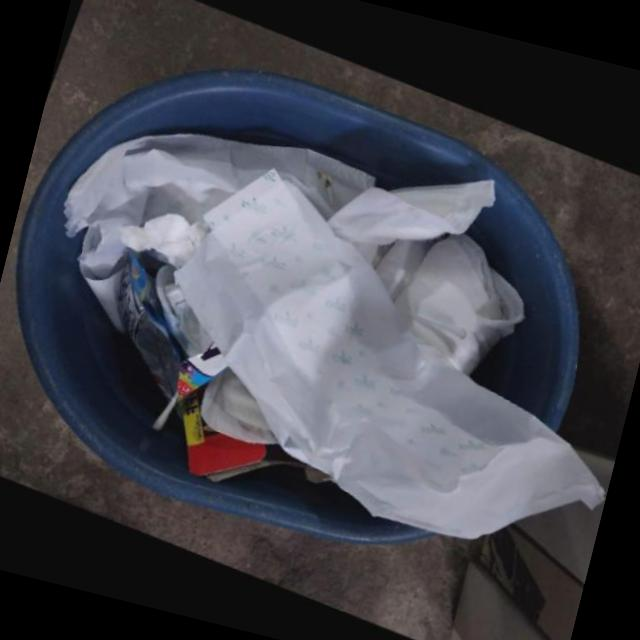bao_bi_thuc_pham: (121, 248, 229, 429)
carton: (181, 381, 326, 482)
giay: (178, 170, 607, 538), (65, 132, 379, 274), (376, 232, 528, 375), (330, 179, 499, 247), (122, 212, 213, 267)
